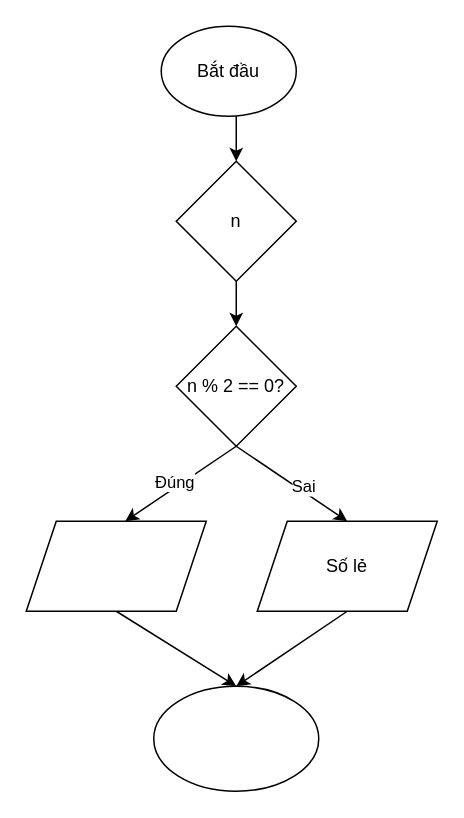
Some shapes in this 464 by 818 pixel diagram are drawn without their labels. Here are the shapes that lost their labels. From the top down, the centre of each, then its label:
At (115,565): "Số chẵn".
At (235,738): "End".
